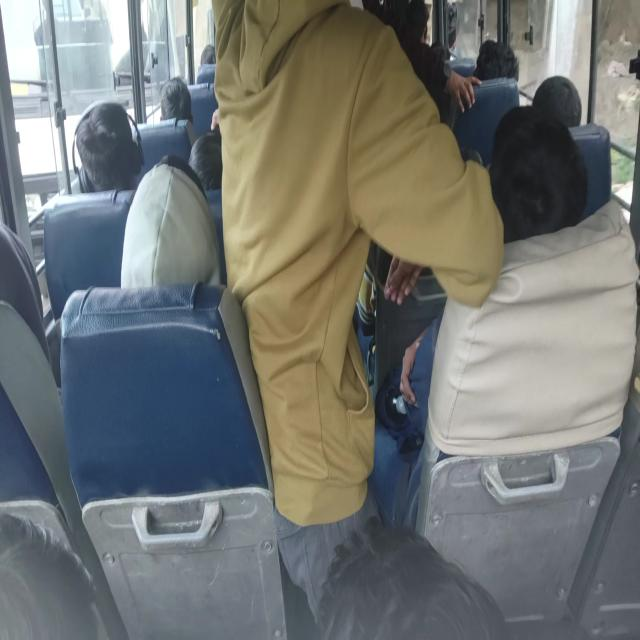person: (212, 0, 396, 509), (306, 523, 453, 640), (491, 106, 584, 262), (124, 170, 220, 303), (76, 105, 145, 198), (0, 216, 42, 353), (381, 0, 449, 81), (531, 70, 585, 130), (478, 40, 524, 92), (191, 127, 225, 186), (165, 69, 193, 123), (202, 40, 232, 83)
